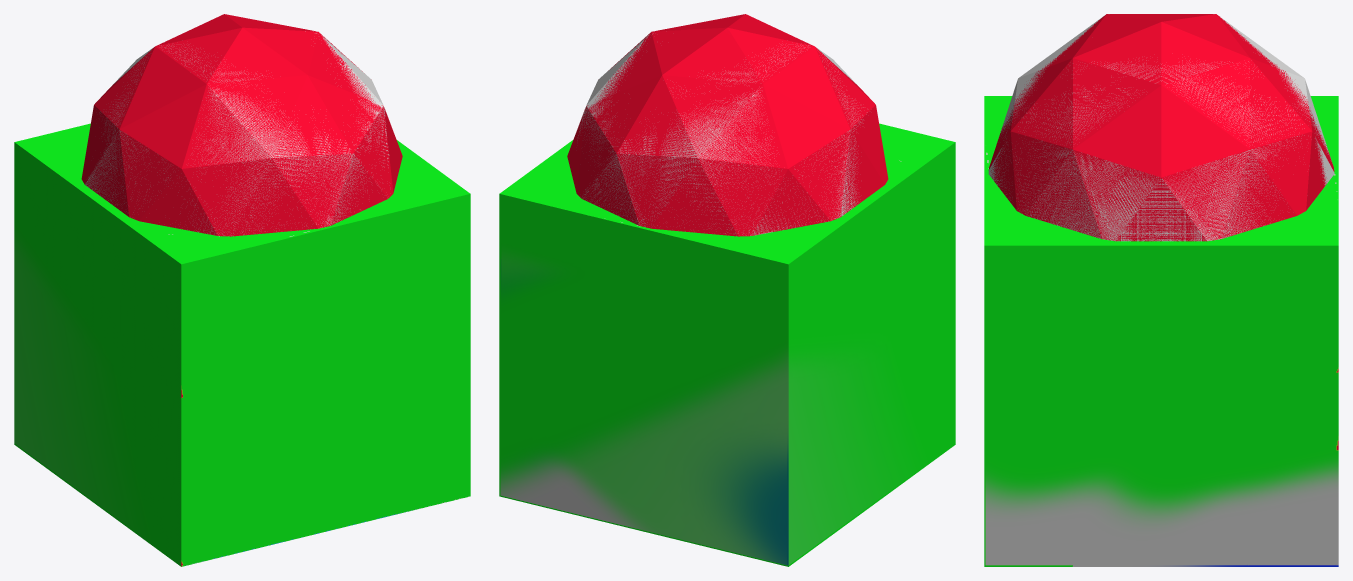
The model's file is uniontest.glb.
The picture shows the model from 3 angles, left to right: view 1: azimuth 30°, elevation 25°; view 2: azimuth 150°, elevation 25°; view 3: azimuth 270°, elevation 25°; orthographic projection. The views are drawn at different scales.
Parts seen in each view (by area): view 1: Cube, Icosphere; view 2: Cube, Icosphere; view 3: Cube, Icosphere.
Boxes of the visible parts, x1,y1,x2,y2 form: Cube: [14, 14, 470, 566]; Icosphere: [85, 31, 389, 235]; Cube: [499, 14, 955, 566]; Icosphere: [577, 31, 867, 235]; Cube: [984, 14, 1338, 566]; Icosphere: [988, 17, 1334, 241].
Size of the model in its own units: 2 by 2.93 by 2.
1 material, 1 textured.
